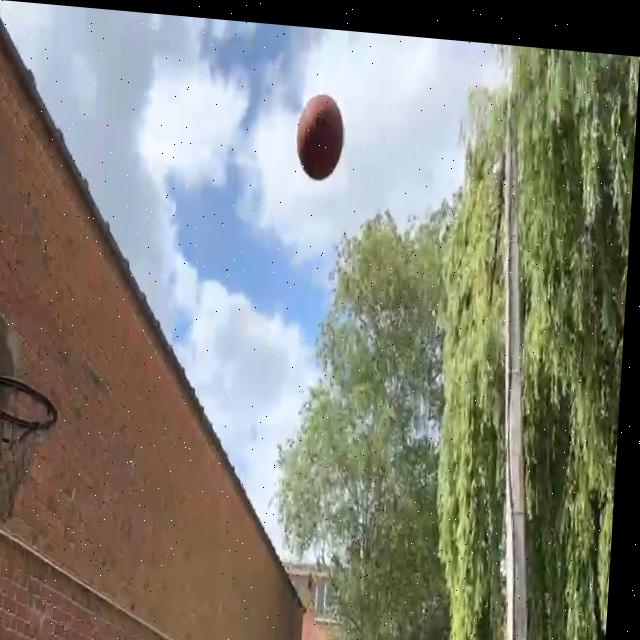Basketball: (294, 92, 346, 181)
